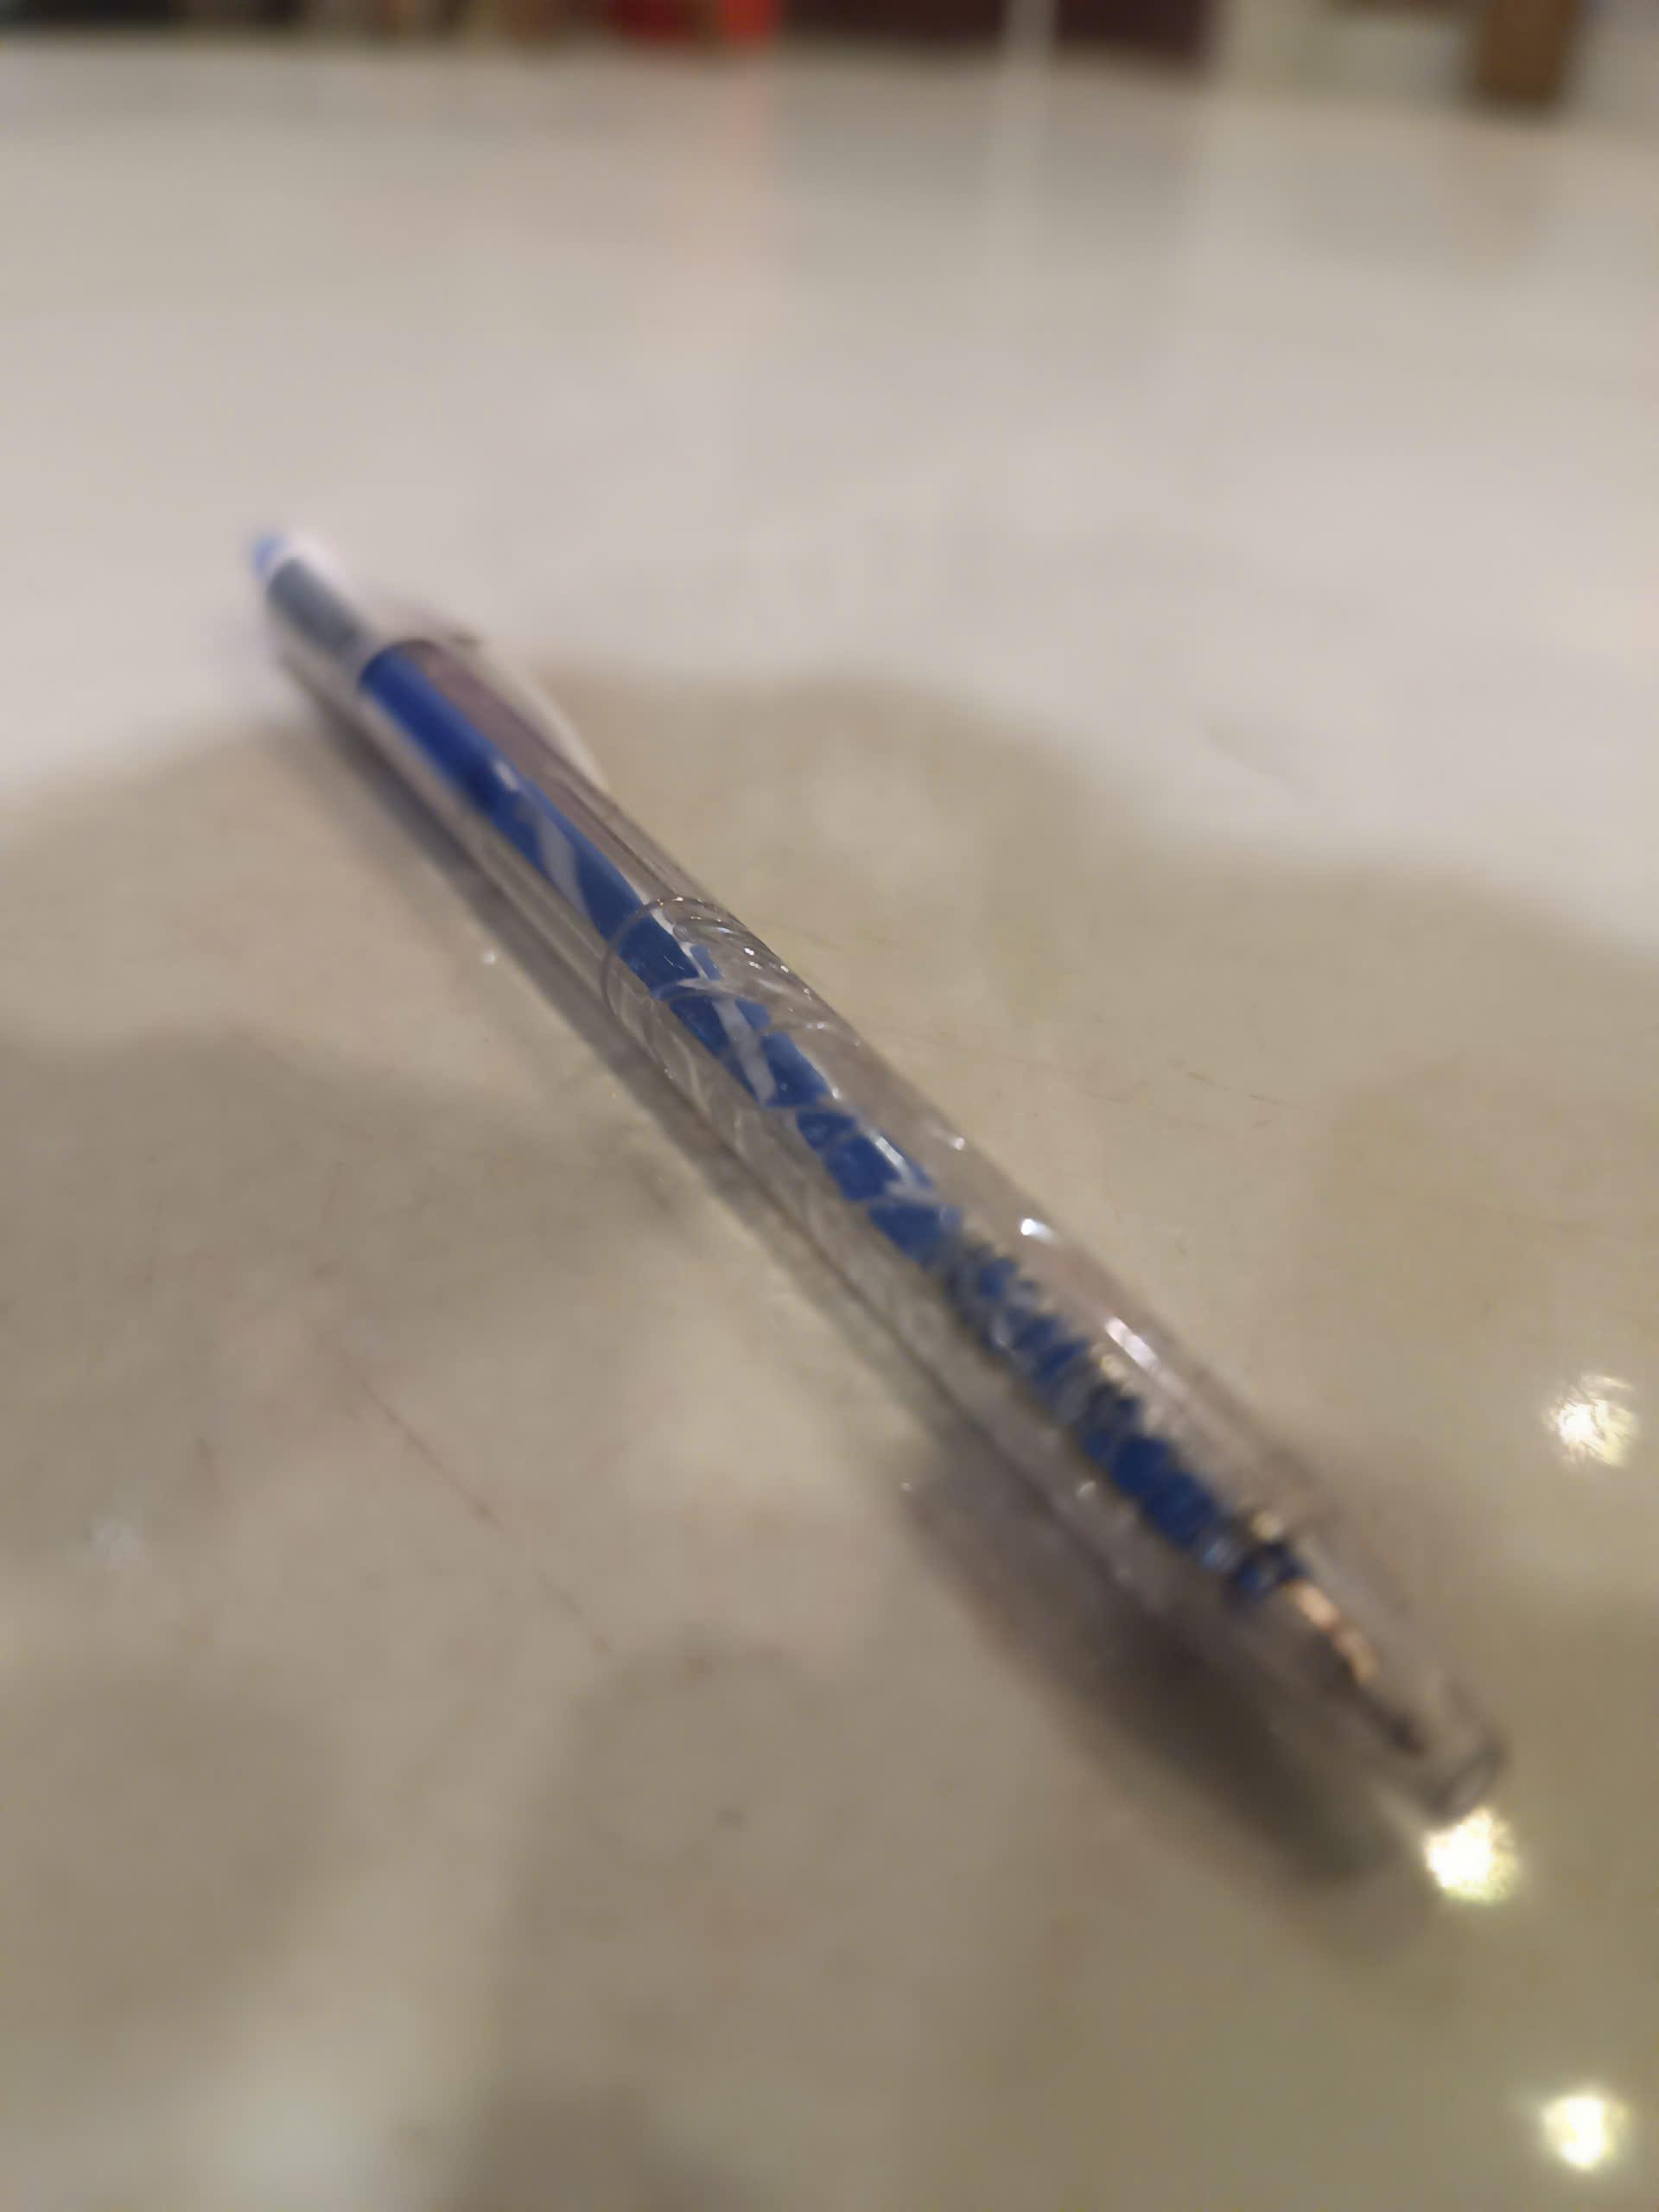Con lai: (246, 516, 1542, 1825)
